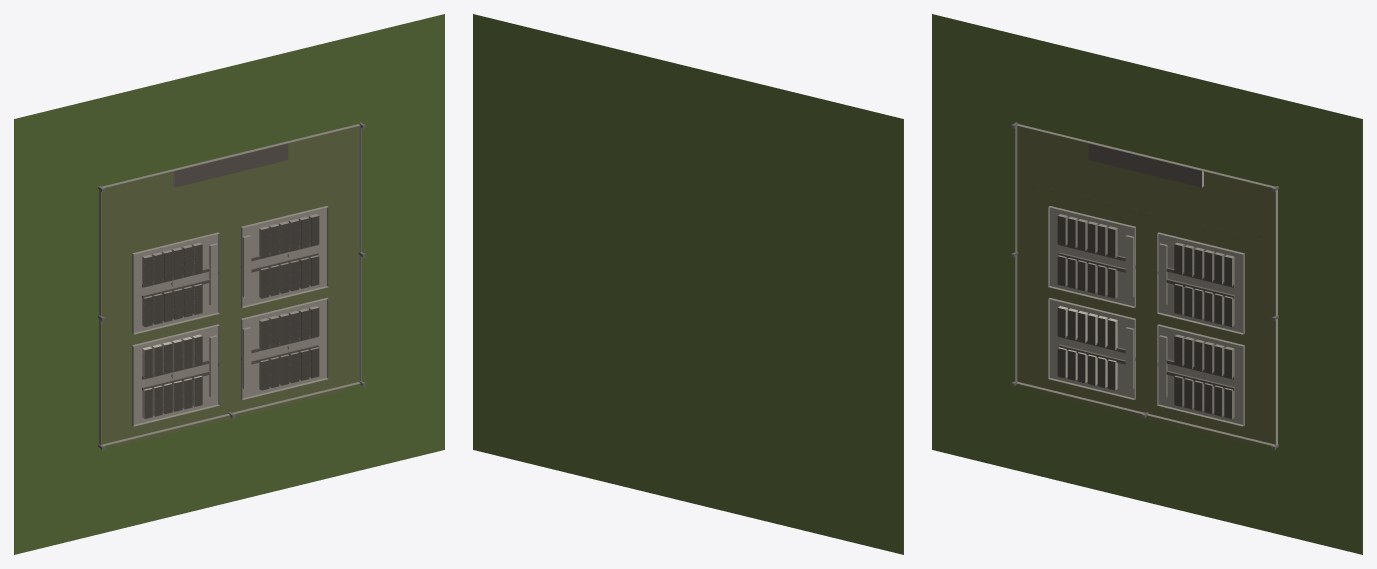
Rendered from UP9_unidad_alto_perfil.obj.
The picture shows the model from 3 angles, left to right: view 1: azimuth 30°, elevation 25°; view 2: azimuth 150°, elevation 25°; view 3: azimuth 330°, elevation 25°; orthographic projection.
Visible parts, largest first — view 1: pasto_campo, pasto_unidad, pasto_N, pasto_N_B, admin_central_roof, pasto_S.001_S, pasto_S_B.001_S, FLOOR.001_S, FLOOR, FLOOR_B.001_S, FLOOR_B, pasto_S_B (+13 smaller); view 2: pasto_campo; view 3: pasto_campo, pasto_unidad, pasto_N, pasto_N_B, admin_central_roof, pasto_S_B.001_S, pasto_S.001_S, FLOOR_B.001_S, FLOOR_B, FLOOR.001_S, FLOOR, pasto_S (+14 smaller).
Boxes of the visible parts, x1,y1,x2,y2 form: pasto_campo: (14,14,444,554); pasto_unidad: (101,126,359,444); pasto_N: (115,211,235,257); pasto_N_B: (224,184,343,228); admin_central_roof: (175,143,288,187); pasto_S.001_S: (115,400,235,447); pasto_S_B.001_S: (224,374,343,420); FLOOR.001_S: (134,326,218,424); FLOOR: (134,234,218,332); FLOOR_B.001_S: (242,299,326,398); FLOOR_B: (242,207,326,306); pasto_S_B: (224,282,343,325); pasto_campo: (473,14,903,554); pasto_campo: (932,14,1362,554); pasto_unidad: (1017,126,1275,444); pasto_N: (1033,184,1152,230); pasto_N_B: (1141,211,1261,257); admin_central_roof: (1088,143,1201,187); pasto_S_B.001_S: (1141,400,1261,447); pasto_S.001_S: (1033,374,1152,420); FLOOR_B.001_S: (1158,326,1242,424); FLOOR_B: (1158,234,1242,332); FLOOR.001_S: (1050,299,1134,398); FLOOR: (1050,207,1134,306); pasto_S: (1033,282,1152,325).
Size of the model in its own units: 760 by 735 by 13.7.
